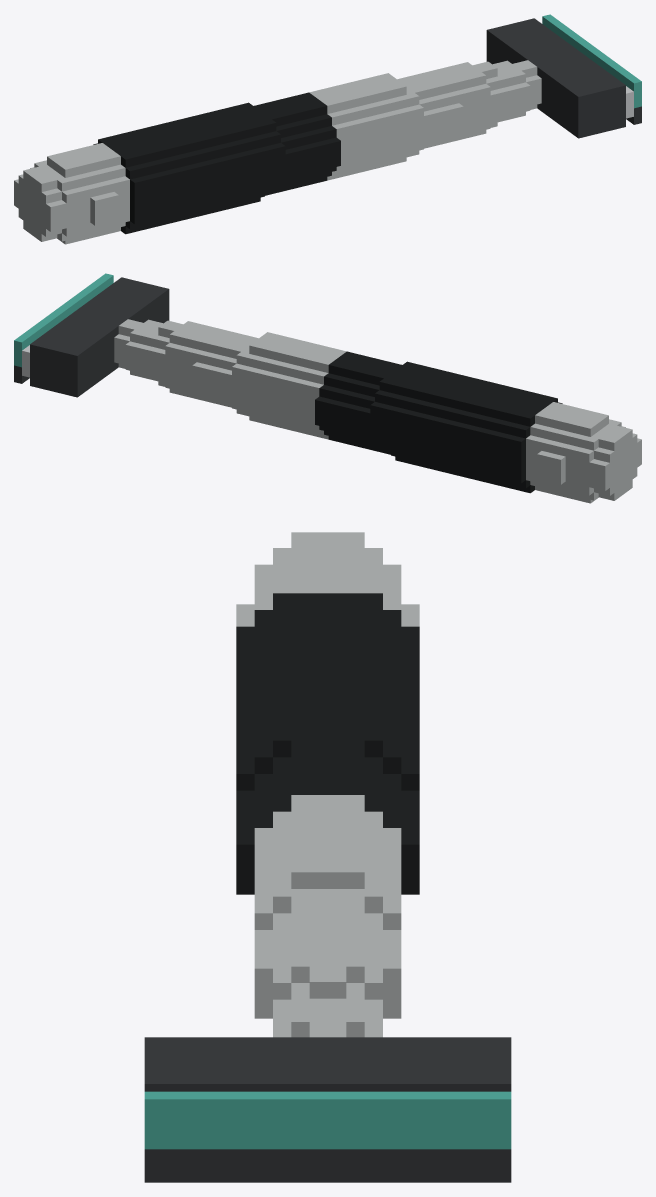
File: razor_shaving.glb
3 renders of one model, top to bottom at view 1: azimuth 30°, elevation 25°; view 2: azimuth 150°, elevation 25°; view 3: azimuth 270°, elevation 25°, orthographic. The views are drawn at different scales.
Visible parts, largest first — view 1: razor_shaving:compound; view 2: razor_shaving:compound; view 3: razor_shaving:compound.
Part boxes in pixels (x1,y1,x2,y2): razor_shaving:compound: (14, 14, 641, 244); razor_shaving:compound: (14, 273, 641, 503); razor_shaving:compound: (144, 532, 511, 1182).
Size of the model in its own units: 0.142 by 0.018 by 0.04.
